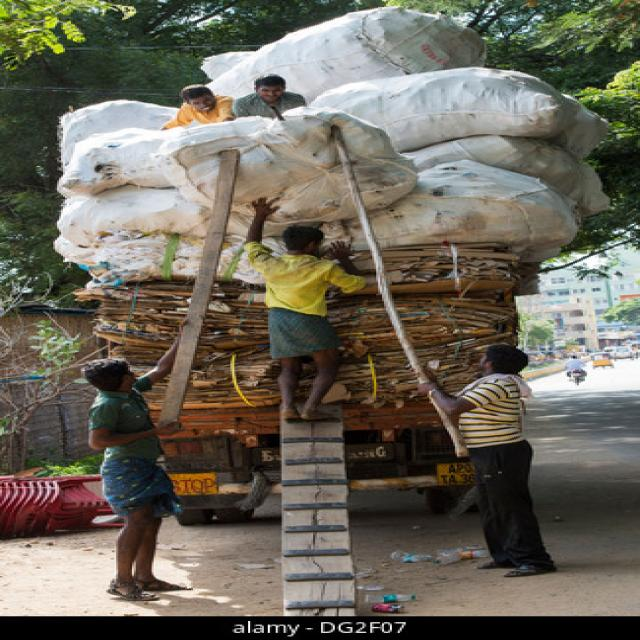normal_truck: (346, 400, 476, 517), (158, 406, 280, 524)
overloaded_truck: (54, 8, 606, 406), (328, 295, 413, 404)
